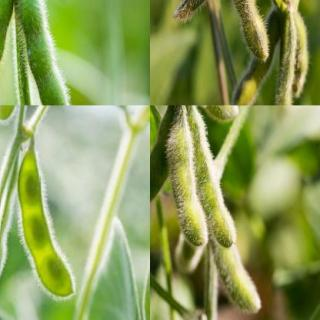soya: (18, 153, 76, 299), (188, 117, 236, 248), (19, 0, 73, 105), (165, 126, 207, 247), (231, 11, 281, 104), (213, 249, 262, 316), (222, 0, 272, 62), (271, 10, 297, 105), (294, 11, 310, 98), (150, 134, 167, 208), (172, 0, 223, 22), (195, 105, 241, 123)
